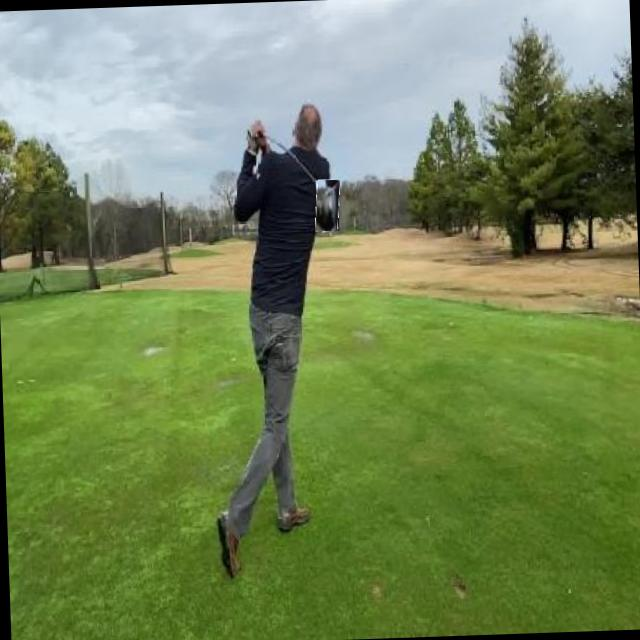club head: (314, 179, 340, 232)
